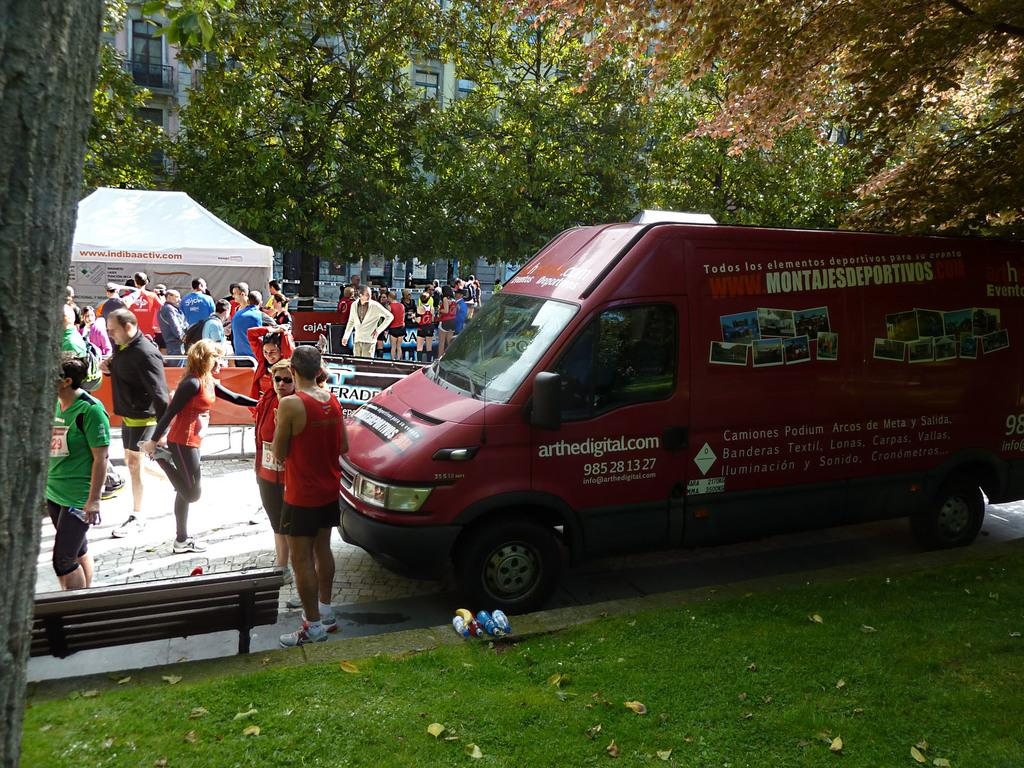vehicle: (337, 209, 1024, 613)
